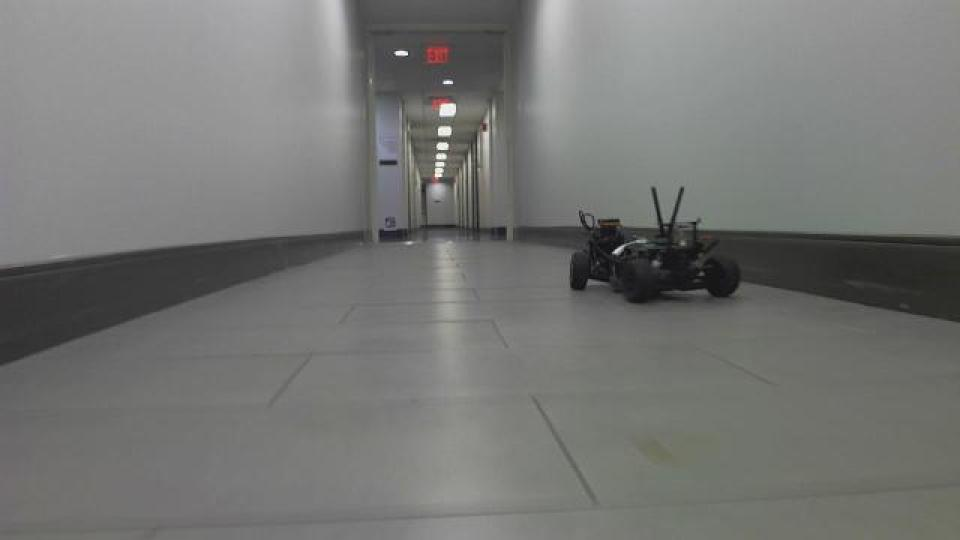car: (564, 183, 742, 306)
